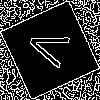V: (25, 25, 79, 72)
